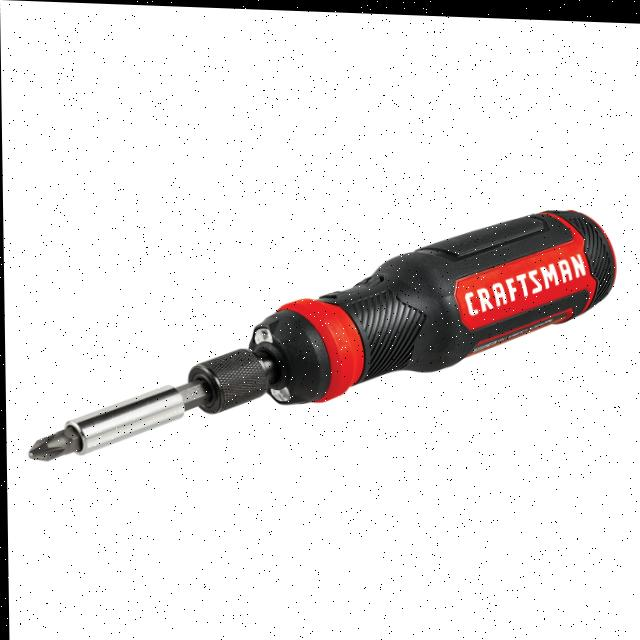Screwdriver: (28, 206, 615, 460)
